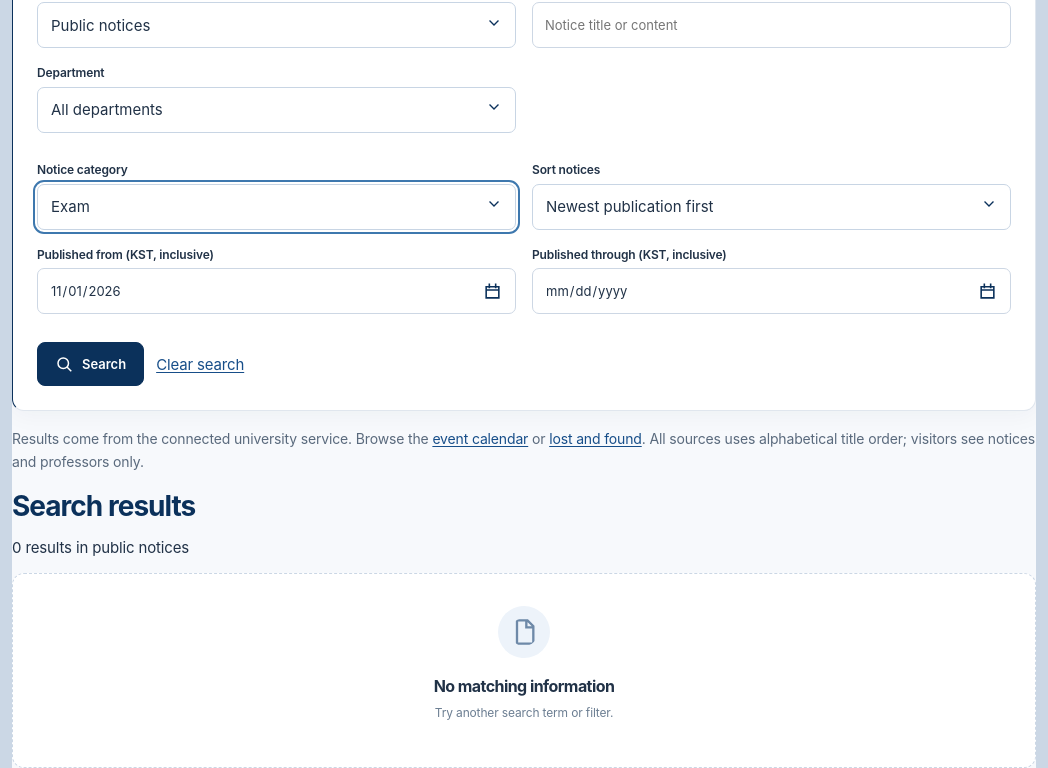
Test case: URL-restored notice controls submit verified filters and clear completely
This screenshot has width=1048, height=768.
(page scrolled)
Expected: the dropdown named "Notice category" reads "Exam", [37,184,516,230]
Expected: the date field labelled "Published from (KST, inclusive)" holds "2026-11-01", [37,268,516,314]
Press Enter
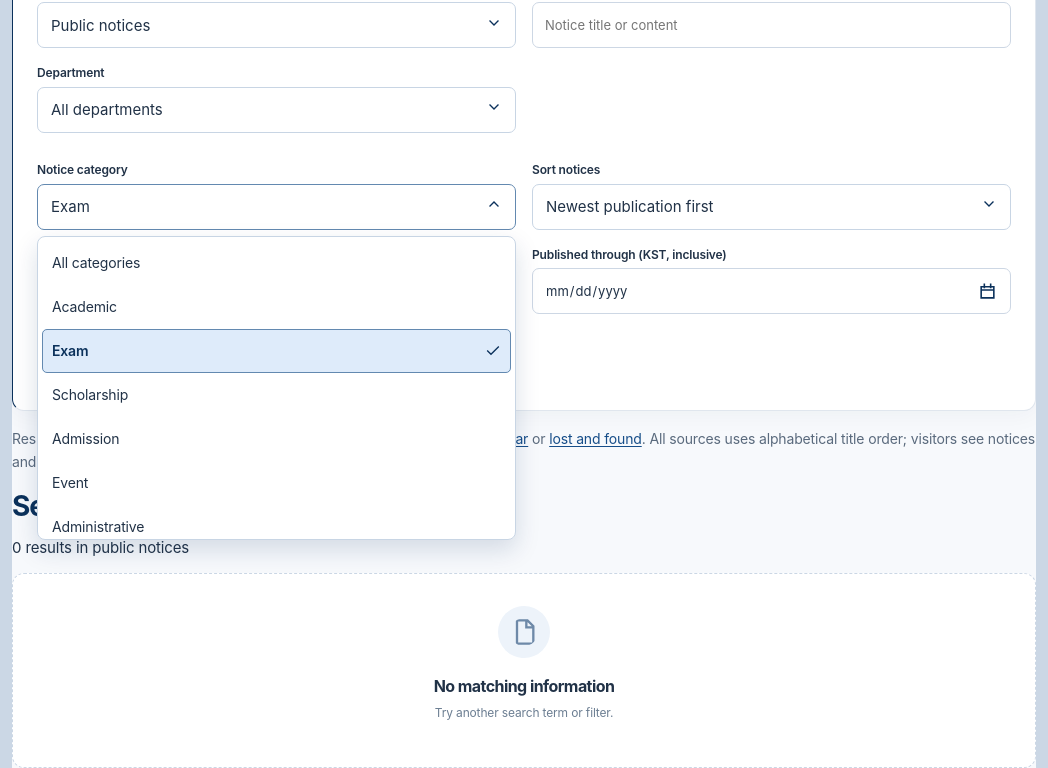
Press End
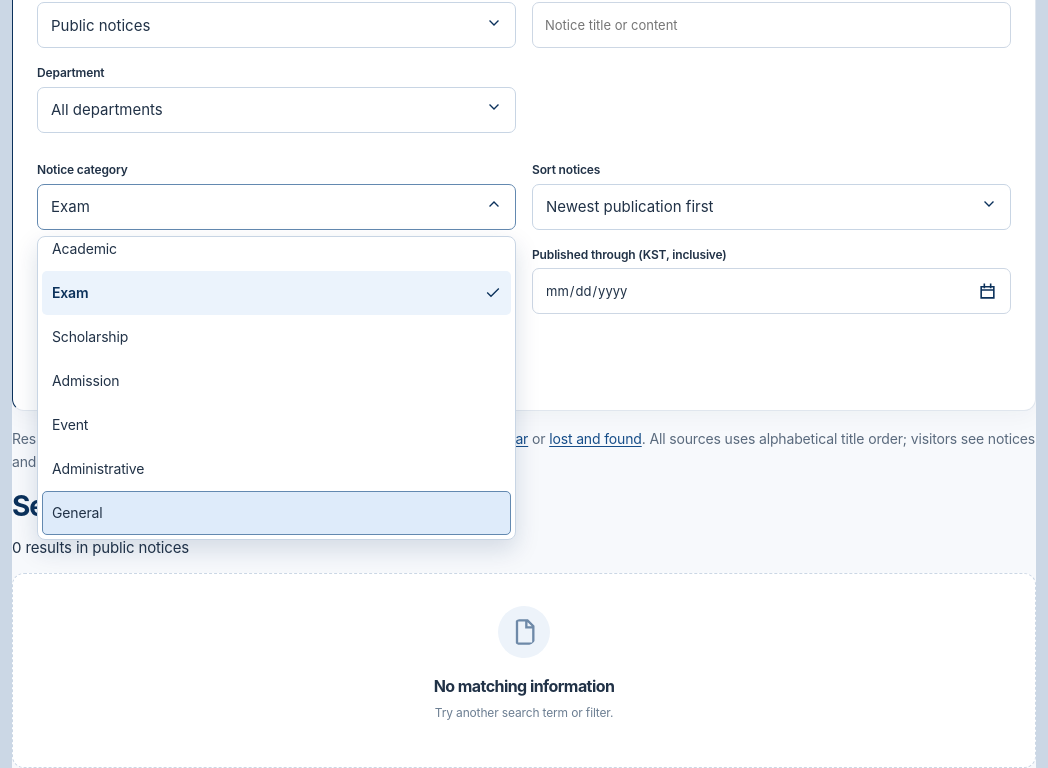
Press Enter
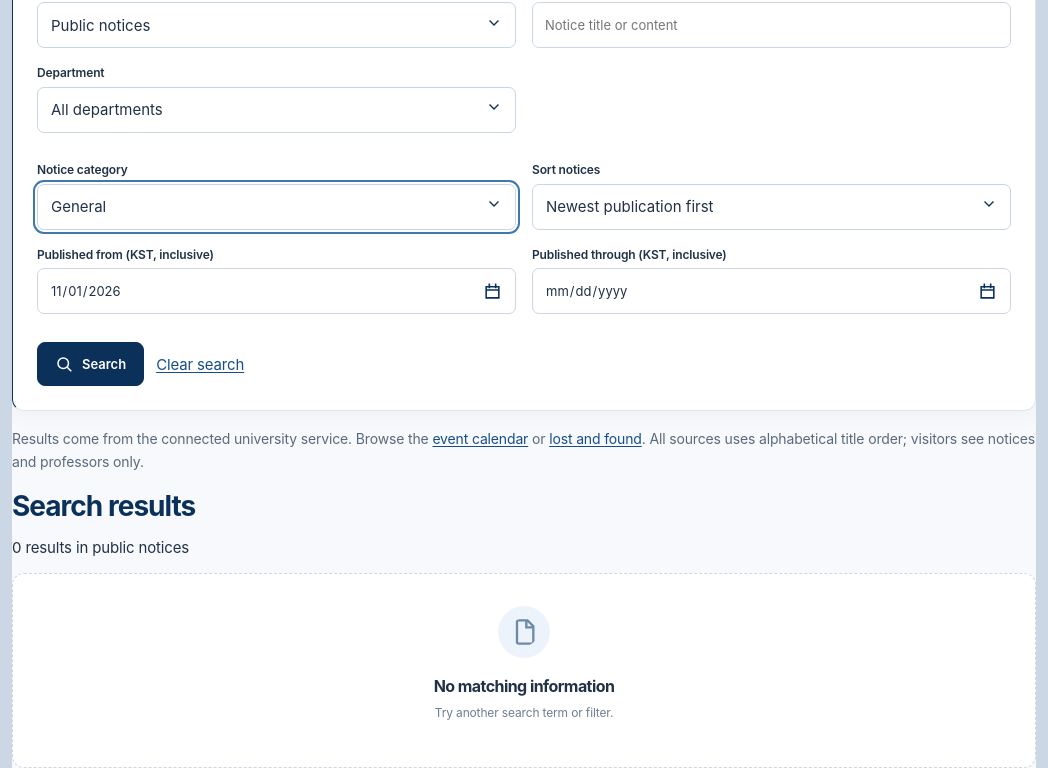
Expected: the dropdown named "Notice category" reads "General", [37,184,516,230]
Click the button "Search": (91, 364) [37,342,144,386]
(page scrolled)
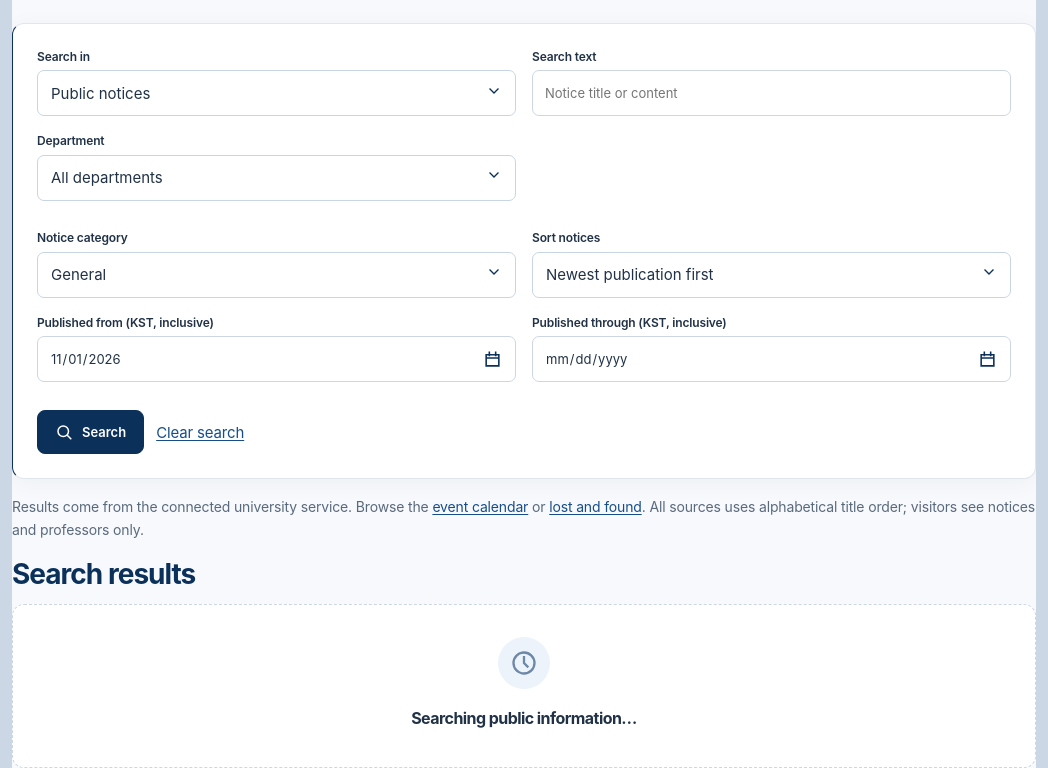
Click the link "Clear search": (200, 432) [156,421,244,444]
(page scrolled)
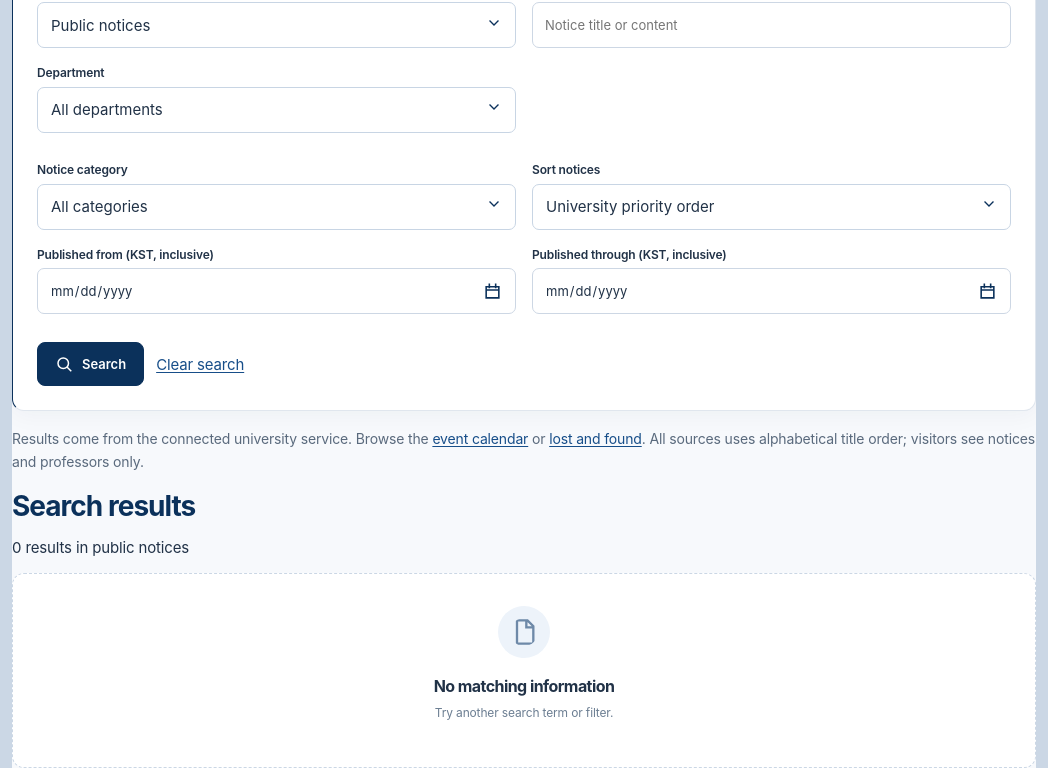
Expected: the dropdown named "Notice category" reads "All categories", [37,184,516,230]
Expected: the date field labelled "Published from (KST, inclusive)" is empty, [37,268,516,314]
Expected: the dropdown named "Sort notices" reads "University priority order", [532,184,1011,230]
